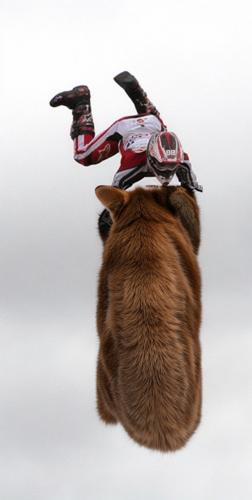cat: (95, 185, 202, 466)
person: (49, 71, 203, 255)
person/foot: (48, 85, 90, 107), (113, 71, 139, 90)
person/hand: (99, 232, 116, 253), (182, 212, 199, 232)
person/head: (146, 131, 186, 184)
